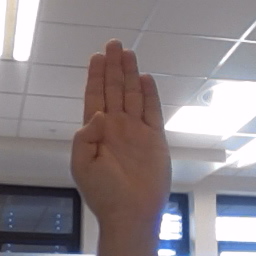B: (69, 36, 176, 215)
